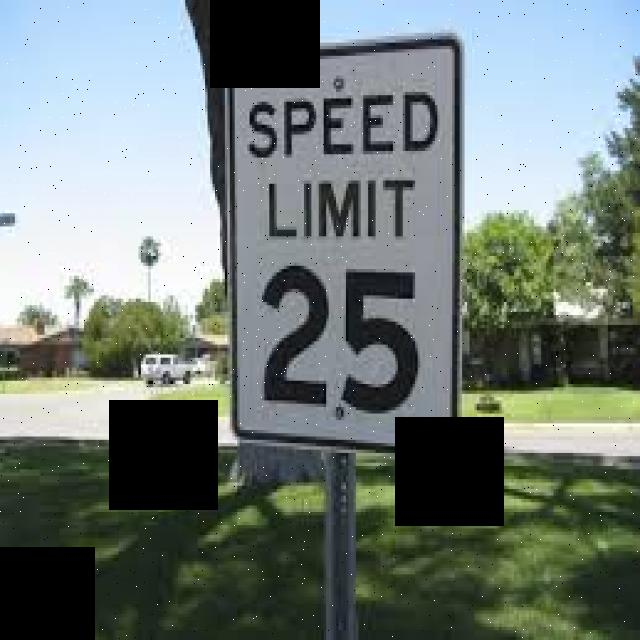regulatory: (225, 33, 465, 468)
